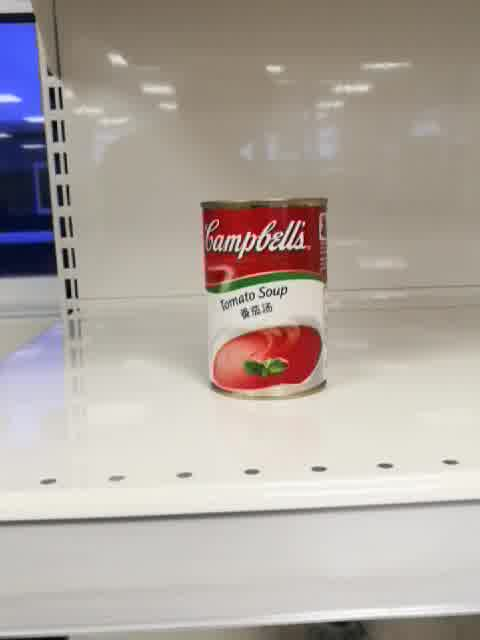tomatosoup: (200, 196, 330, 401)
